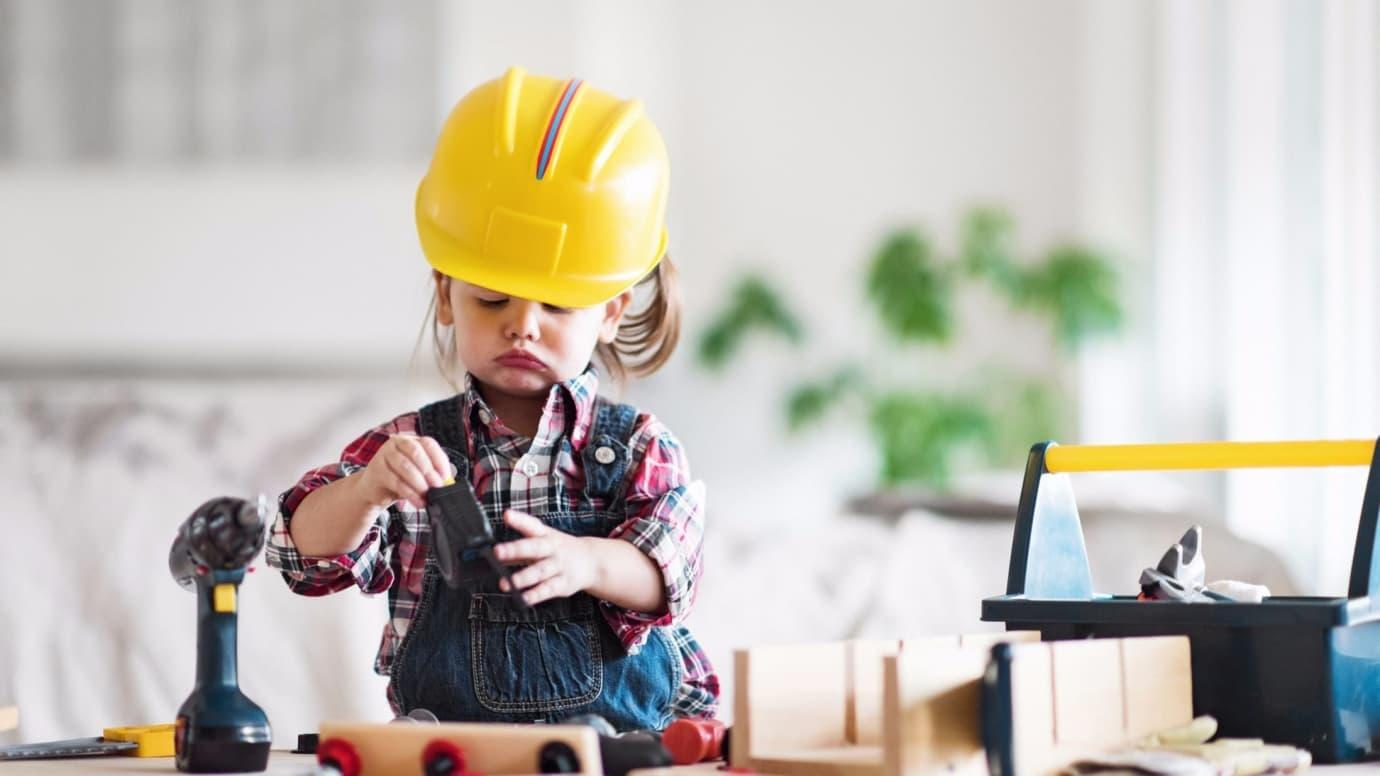helmet: (410, 68, 679, 314)
no_wear: (377, 397, 681, 730)
